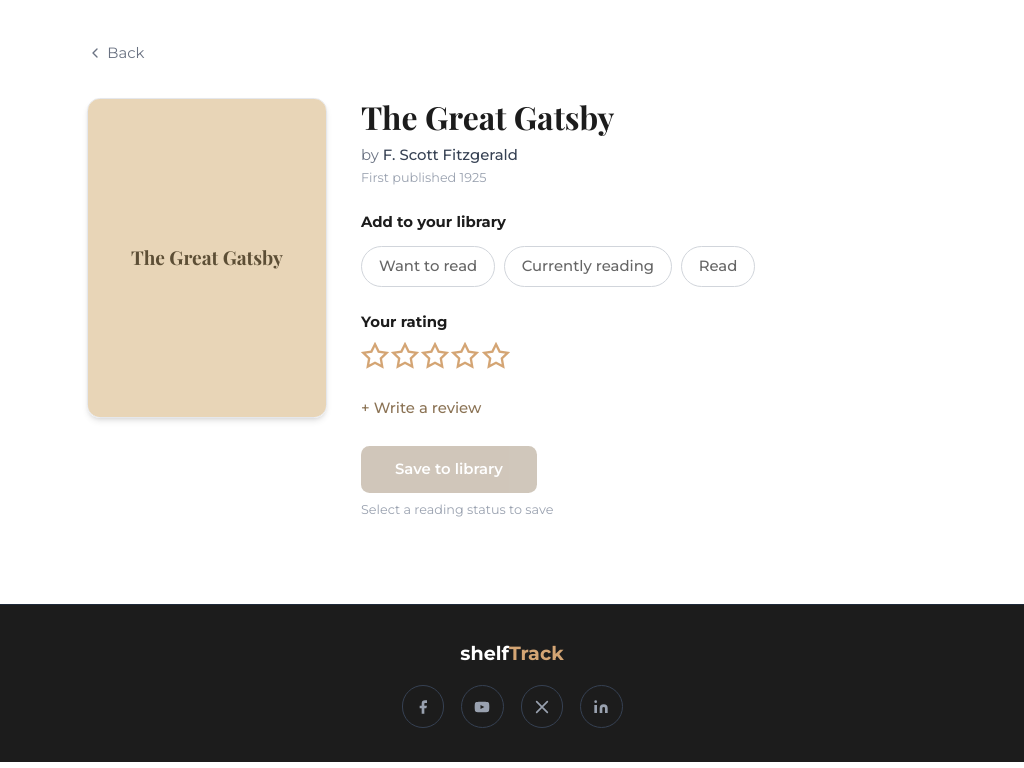
Test: BookDetailPage › saving to library › shows "✓ Saved to library" after a successful save
The image size is (1024, 768).
What coordinates should you click on to do the following:
click the button "Want to read"
I would click on:
 (428, 267)
Its box is x1=361 y1=246 x2=495 y2=287.
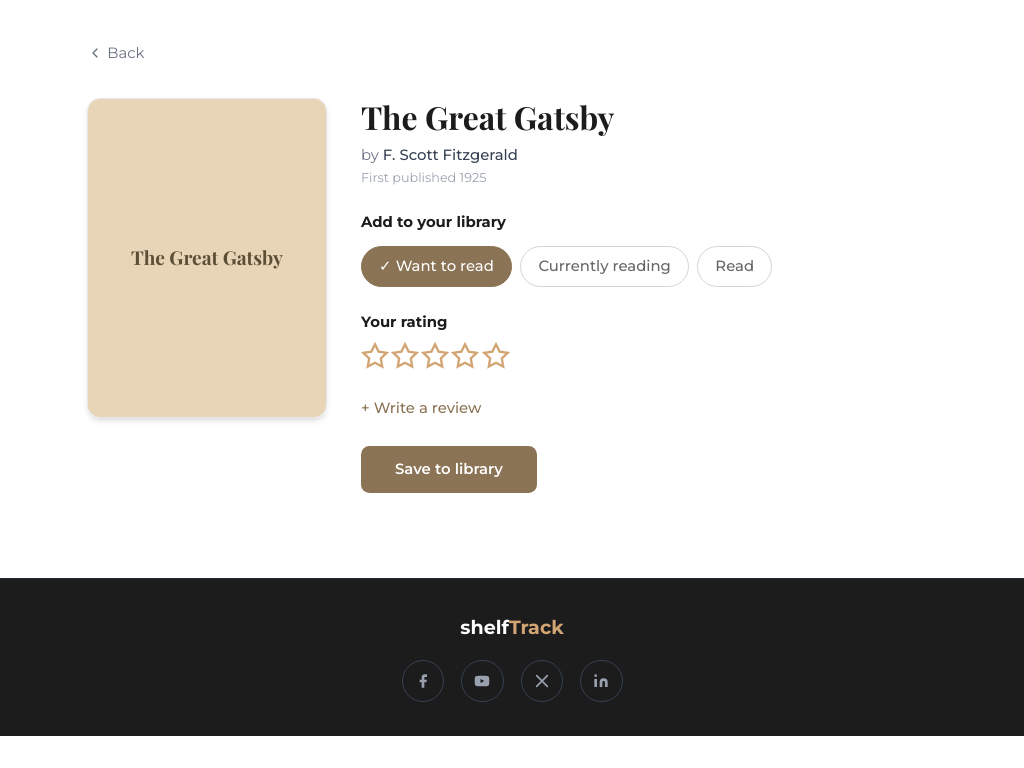
What coordinates should you click on to do the following:
click the button "Save to library"
I would click on:
 (449, 470)
Its box is x1=361 y1=446 x2=537 y2=493.
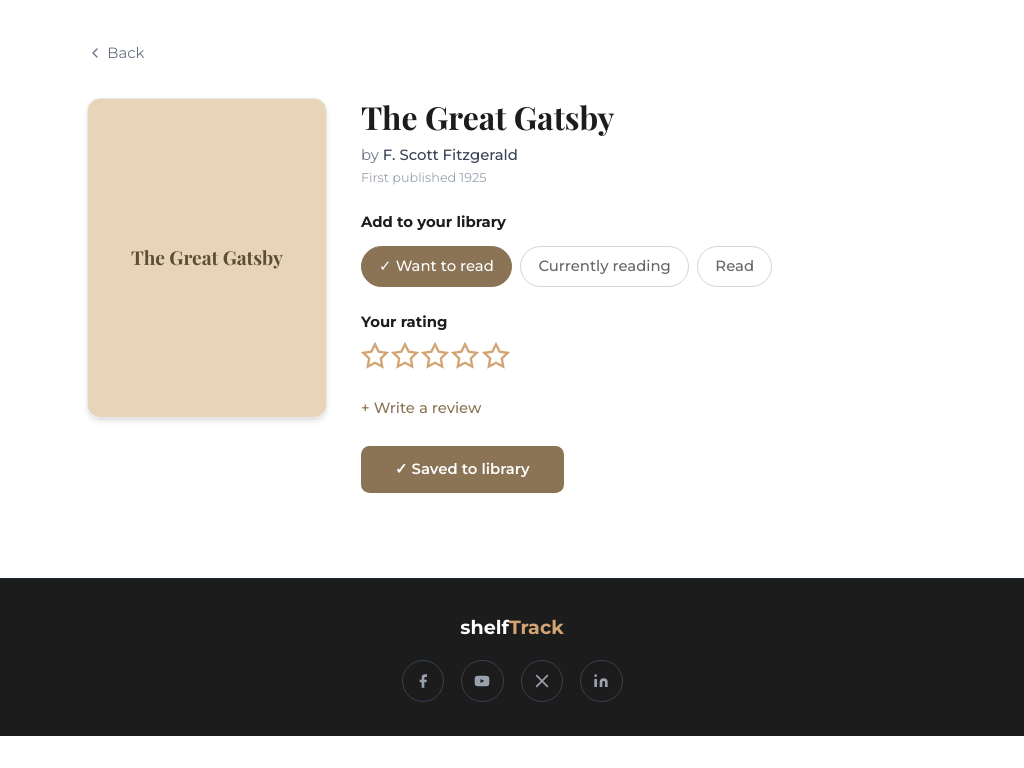
Expected: the button "✓ Saved to library" is shown, x1=361 y1=446 x2=564 y2=493
